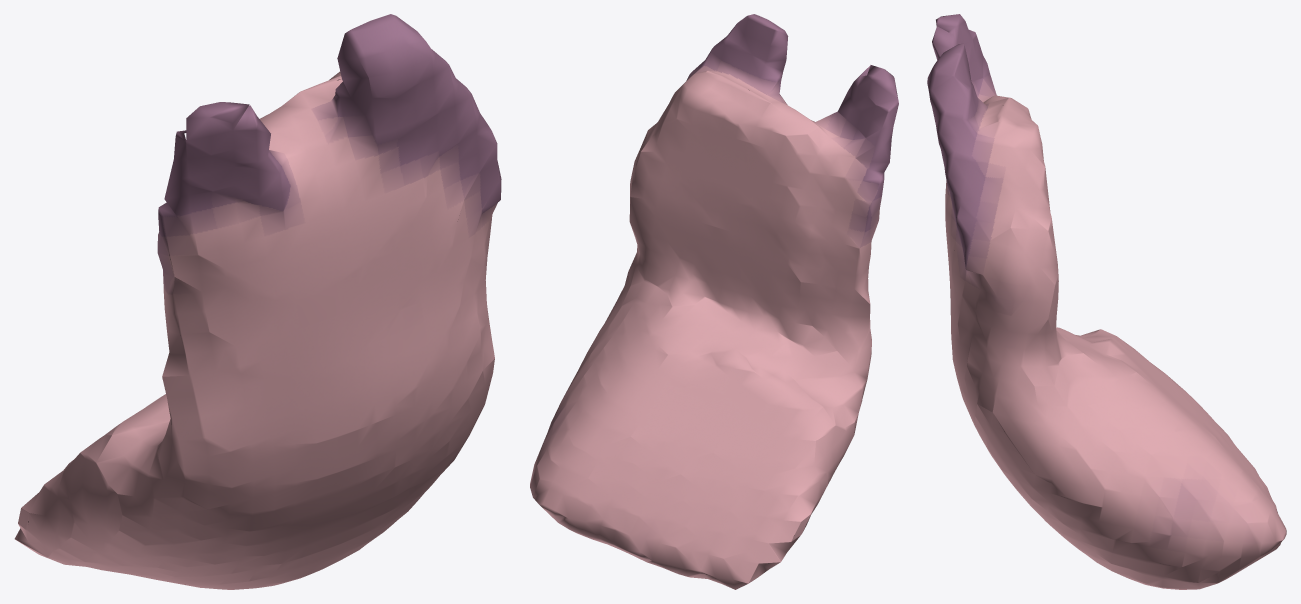
Rendered from dress1.gltf.
The picture shows the model from 3 angles, left to right: view 1: azimuth 30°, elevation 25°; view 2: azimuth 150°, elevation 25°; view 3: azimuth 270°, elevation 25°; orthographic projection. The views are drawn at different scales.
Visible parts, largest first — view 1: dress1; view 2: dress1; view 3: dress1.
Boxes of the visible parts, x1=… form: dress1: x1=14, y1=14, x2=501, y2=589; dress1: x1=530, y1=14, x2=898, y2=589; dress1: x1=927, y1=14, x2=1286, y2=589.
Size of the model in its own units: 14.08 by 23.15 by 14.48.
Materials: 1 (1 with a texture image).
